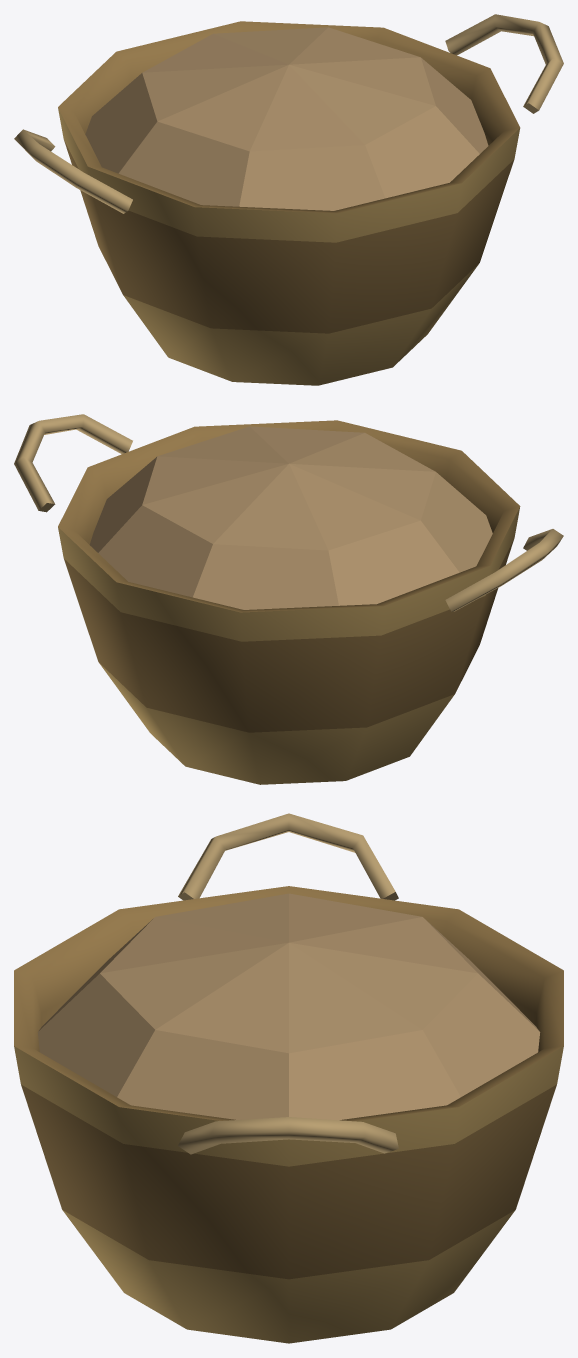
Rendered from dig_basket.glb.
The picture shows the model from 3 angles, top to bottom: view 1: azimuth 30°, elevation 25°; view 2: azimuth 150°, elevation 25°; view 3: azimuth 270°, elevation 25°; orthographic projection. The views are drawn at different scales.
Visible parts, largest first — view 1: dig_basket; view 2: dig_basket; view 3: dig_basket.
Boxes of the visible parts, left/top/right/bottom form: dig_basket: left=14, top=14, right=563, bottom=385; dig_basket: left=14, top=414, right=563, bottom=784; dig_basket: left=14, top=813, right=563, bottom=1343.
Bounding box in the file's own units: 0.5157 × 0.25 × 0.3804.
